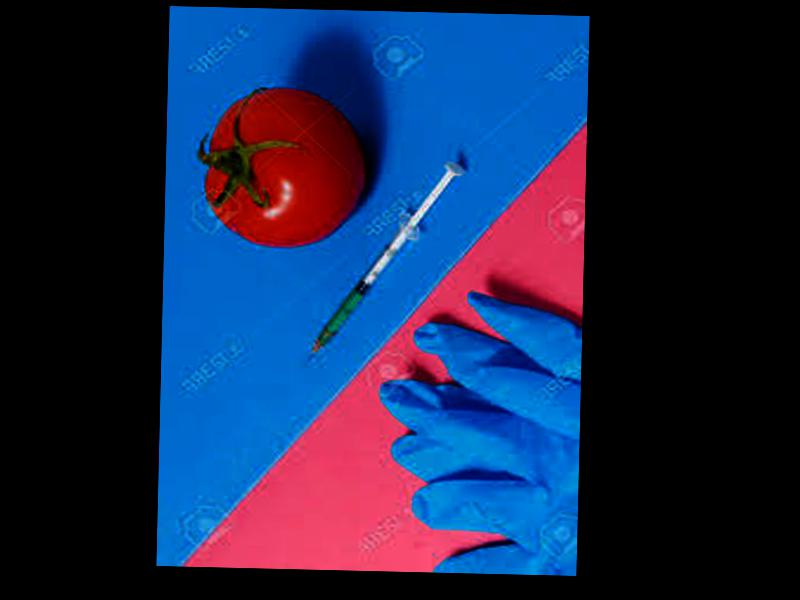Tomato: (205, 88, 370, 249)
